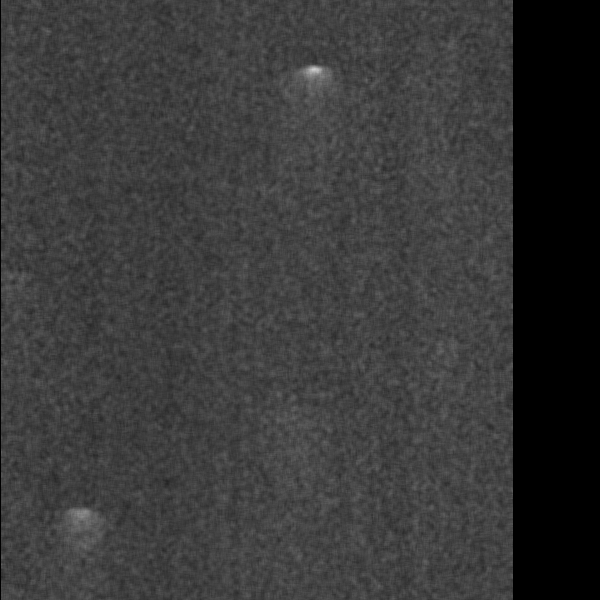spark: (80, 402, 162, 491), (257, 317, 352, 374), (393, 35, 456, 86), (1, 581, 32, 600)
